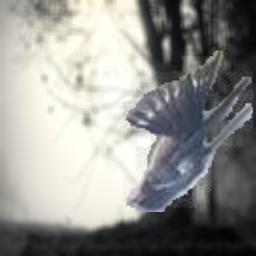Swallow: (123, 47, 253, 212)
